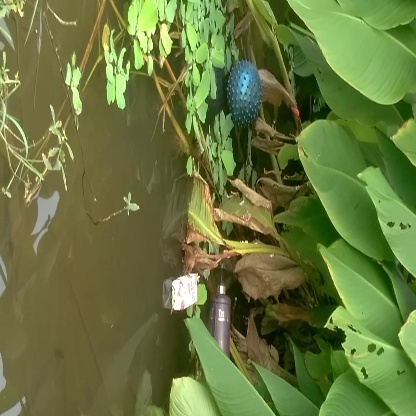ball: (222, 54, 268, 130)
milk-box: (168, 265, 201, 319)
